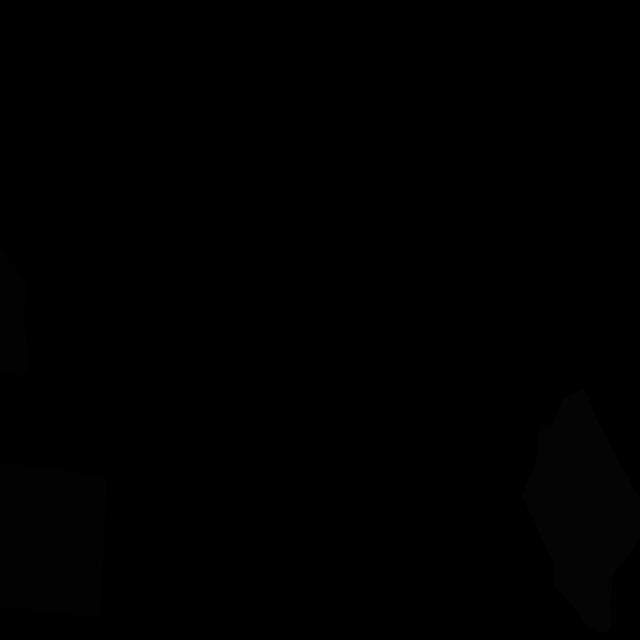cardboard: (0, 462, 107, 618), (0, 246, 30, 377)
soft_plastic: (522, 389, 640, 634)
